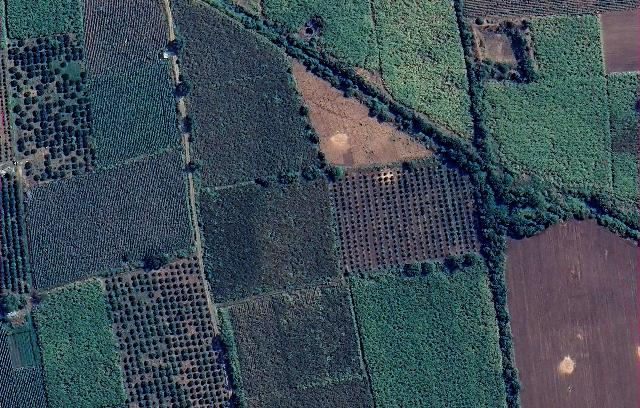EmptyFarms: (503, 216, 640, 408), (291, 44, 444, 169), (601, 9, 640, 75)
Farms: (168, 0, 328, 187), (352, 252, 514, 408), (483, 15, 614, 198), (28, 152, 196, 293), (328, 152, 486, 280), (104, 252, 233, 408), (223, 277, 373, 408), (200, 169, 341, 305), (370, 0, 475, 144), (4, 32, 101, 185), (261, 0, 386, 99), (31, 281, 127, 408), (92, 60, 183, 164), (82, 0, 176, 79), (8, 0, 83, 42)
